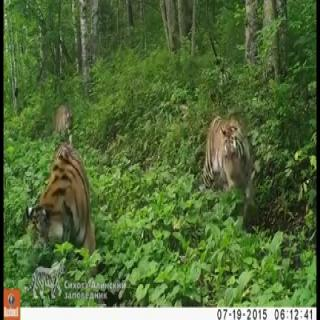Tiger: (26, 130, 103, 256), (202, 98, 254, 206)
